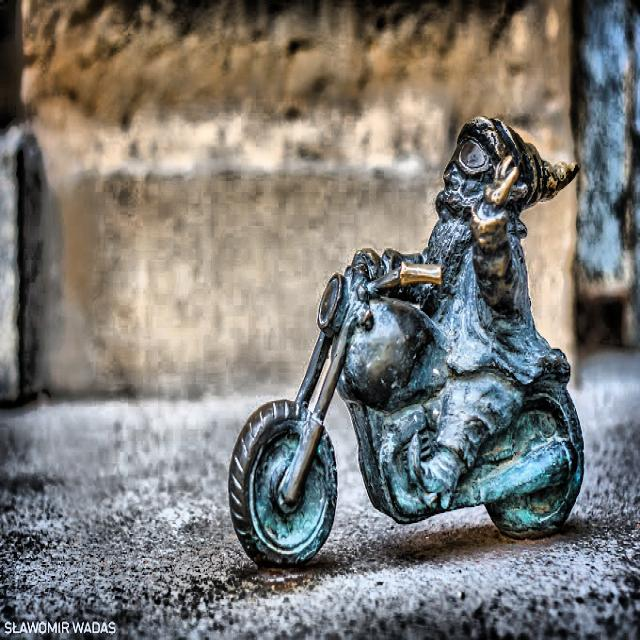Wentyl: (230, 118, 582, 565)
